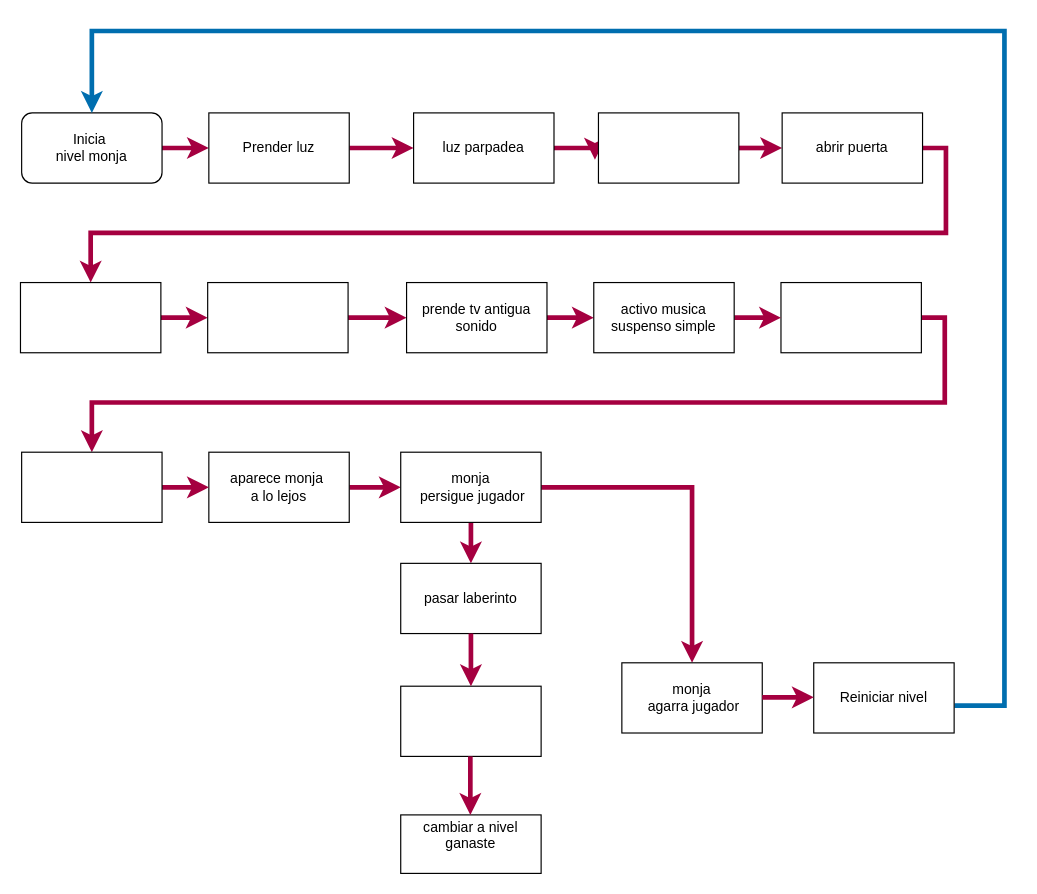
This 1037x894 diagram has some shape labels left out. The shapes that lost their labels are listed below. From the top down, each one's centre as x and y in pixels, then its label:
(x=668, y=147): fondo Monja
(x=90, y=317): prender luz simple parpadeo
(x=277, y=317): agarrar llave
(x=850, y=317): abrir puerta con llave
(x=91, y=486): activo música suspenso
(x=470, y=720): Escape de monja
